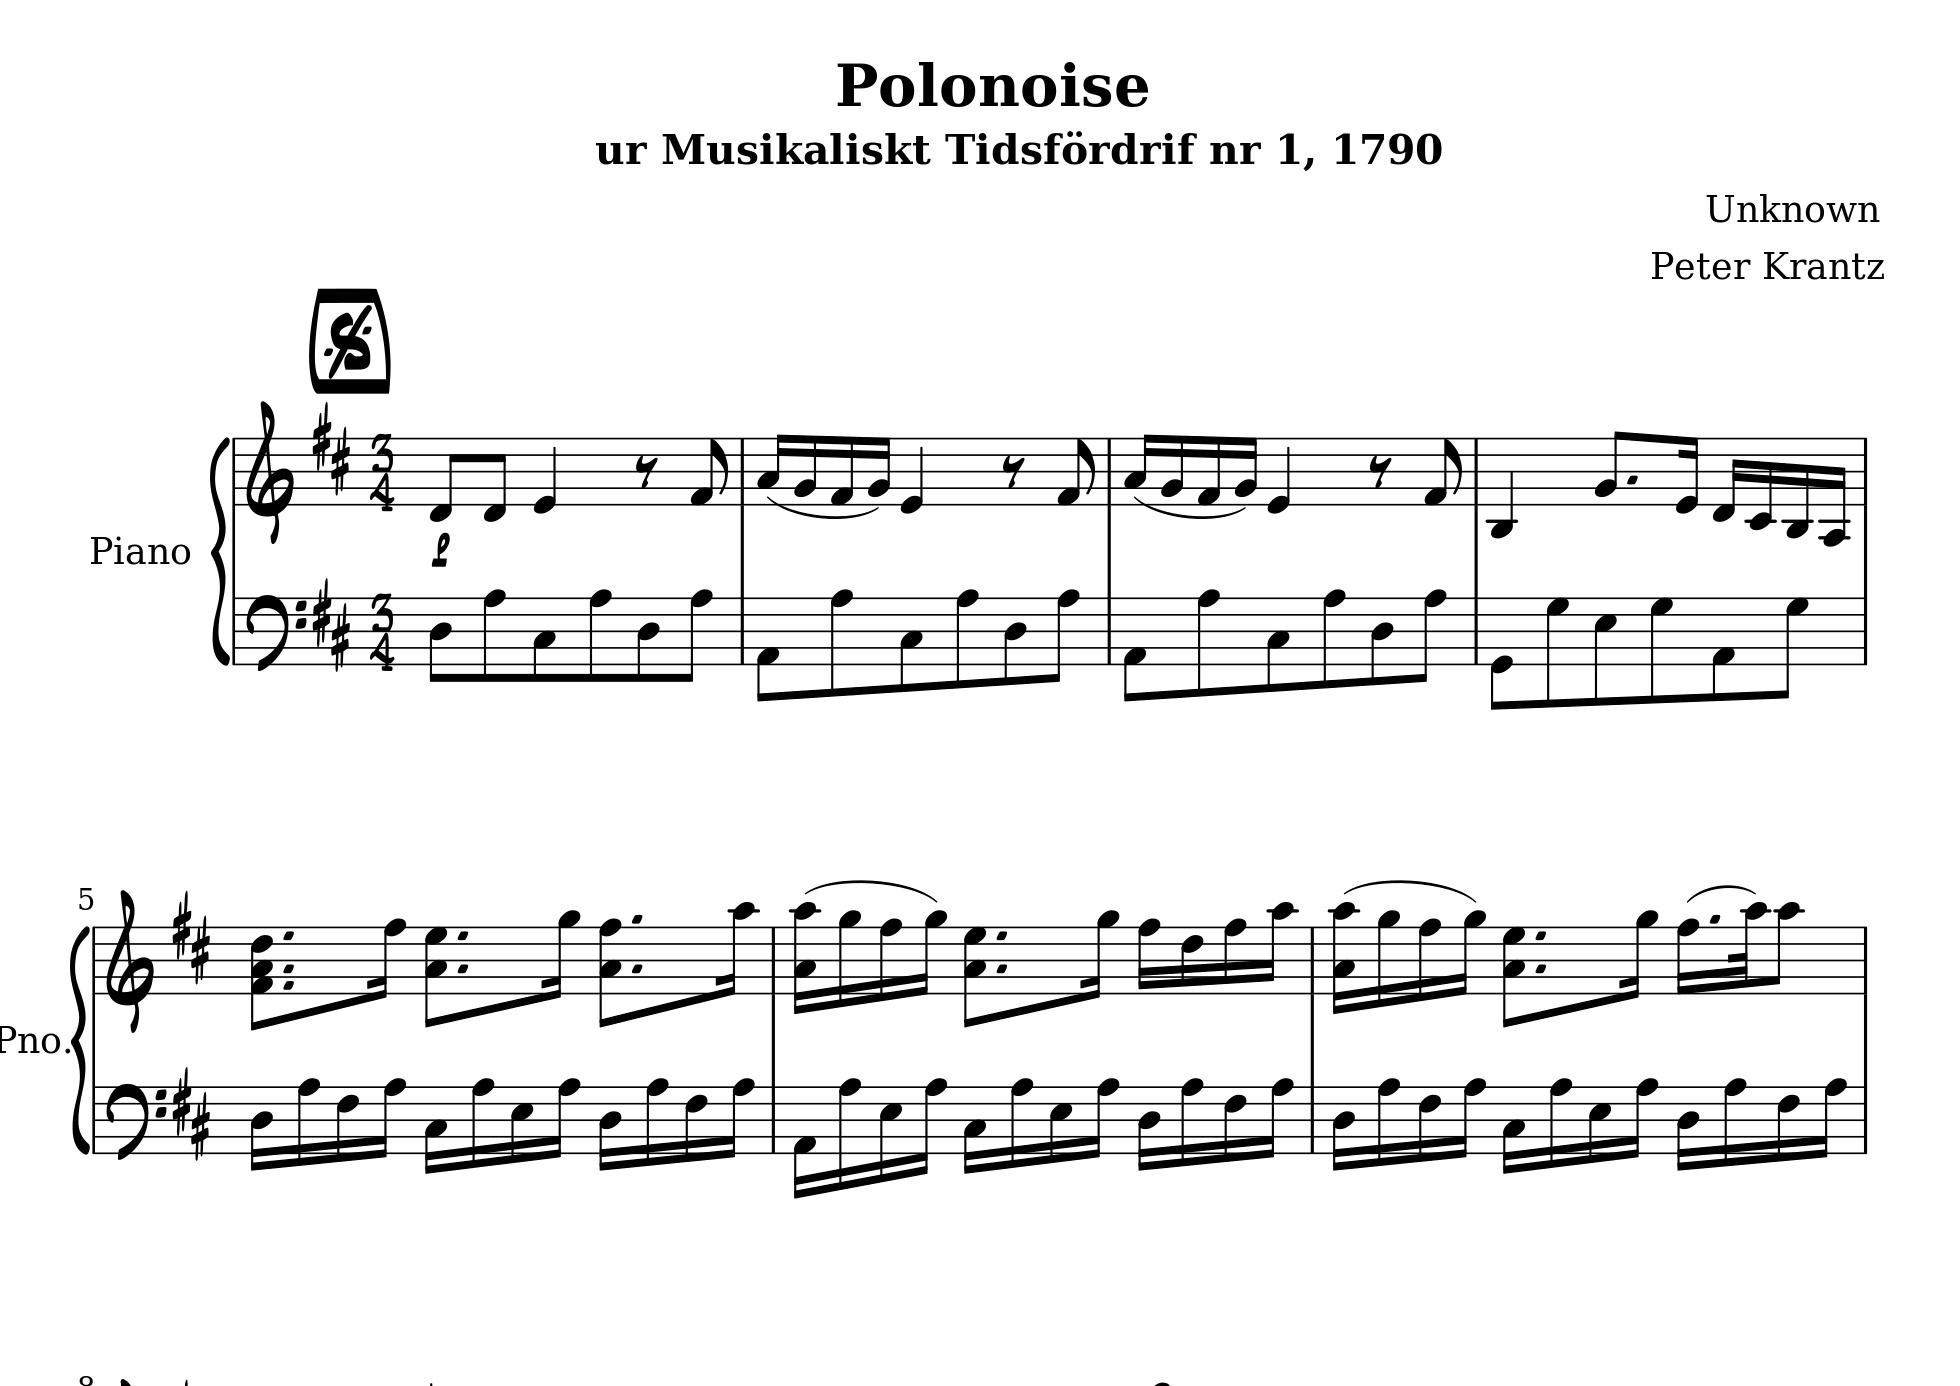16_-1: (1711, 435, 1741, 525)
16_-2: (1747, 436, 1774, 531)
16_-3: (1783, 433, 1812, 540)
16_-4: (1818, 433, 1848, 547)
16_0: (1672, 433, 1701, 516)
16_1: (790, 1083, 816, 1200), (826, 433, 855, 507), (1194, 433, 1222, 507)
16_10: (718, 901, 754, 1000), (1261, 900, 1296, 994)
16_2: (1158, 432, 1185, 505), (792, 432, 817, 505), (865, 433, 889, 505), (1233, 433, 1257, 505)
16_3: (754, 430, 786, 505), (1122, 430, 1153, 505), (961, 1084, 987, 1174), (421, 1084, 445, 1174), (1500, 1084, 1524, 1174)
16_3_10: (787, 898, 822, 1015), (1326, 901, 1359, 1015)
16_4: (1329, 1081, 1356, 1171), (595, 1083, 621, 1171), (1135, 1083, 1161, 1171), (1674, 1083, 1699, 1171), (247, 1083, 271, 1171)
16_5: (877, 1083, 901, 1183), (1047, 1083, 1072, 1164), (508, 1083, 532, 1164), (1587, 1083, 1611, 1162)
16_6: (1416, 1081, 1441, 1162), (682, 1081, 706, 1162), (1222, 1081, 1246, 1162), (1776, 1081, 1800, 1162), (334, 1083, 358, 1162), (1179, 922, 1204, 994)
16_8: (910, 1075, 946, 1176), (544, 1075, 579, 1159), (1623, 1075, 1657, 1159), (369, 916, 403, 999), (372, 1075, 405, 1159), (720, 1075, 753, 1159), (835, 1075, 859, 1191), (1086, 1075, 1119, 1159), (1260, 1075, 1293, 1159), (1452, 1075, 1485, 1159), (1812, 1075, 1845, 1159), (294, 1075, 319, 1168), (468, 1075, 493, 1168), (1546, 1075, 1572, 1168), (1720, 1075, 1746, 1168), (1177, 1075, 1203, 1167), (1374, 1075, 1399, 1167), (1008, 1075, 1032, 1168), (643, 1075, 667, 1167), (877, 916, 901, 1002), (1221, 916, 1246, 996), (1135, 916, 1161, 994), (1417, 916, 1440, 1002), (1674, 916, 1698, 996)
16_9: (1083, 907, 1119, 1000), (544, 907, 579, 1000), (1623, 907, 1657, 1000), (916, 907, 946, 996), (1455, 907, 1485, 996), (835, 907, 859, 1008), (1375, 907, 1399, 1008)
3: (370, 429, 394, 471), (370, 589, 394, 631)
32_10: (1731, 900, 1767, 994)
4: (367, 630, 397, 670), (369, 469, 396, 511)
4_-3: (1488, 433, 1515, 538)
4_0: (529, 435, 556, 516), (1264, 435, 1291, 516), (898, 435, 924, 514)
5: (76, 883, 94, 910)
8_-1: (424, 435, 460, 523), (480, 435, 508, 523)
8_0: (1488, 594, 1513, 711)
8_1: (687, 435, 729, 505), (1054, 435, 1096, 505), (1420, 435, 1462, 505), (1708, 594, 1734, 703), (753, 595, 778, 703), (1122, 595, 1146, 703)
8_10: (1770, 900, 1800, 996)
8_2: (1593, 427, 1626, 505)
8_3: (895, 595, 922, 694), (1263, 595, 1290, 694), (529, 595, 556, 682)
8_3_7: (423, 922, 450, 1030), (961, 925, 990, 1027), (1501, 925, 1527, 1029)
8_3_8: (598, 916, 622, 1029)
8_4: (1368, 595, 1395, 687), (1002, 595, 1027, 685), (427, 595, 453, 684), (634, 595, 660, 682)
8_5: (1593, 592, 1617, 706)
8_7: (1647, 595, 1674, 705), (1543, 594, 1569, 708)
8_8: (1773, 594, 1809, 700), (1042, 586, 1078, 685), (675, 586, 709, 685), (1410, 586, 1444, 685), (826, 586, 852, 700), (1194, 586, 1219, 700), (949, 586, 976, 691), (1317, 586, 1344, 691), (582, 586, 610, 684), (478, 586, 505, 682)
Brace: (210, 436, 229, 664), (72, 922, 88, 1156)
D_S: (310, 400, 352, 495), (310, 574, 351, 670), (171, 889, 211, 982), (171, 1065, 211, 1158)
Fclef: (244, 591, 307, 673), (103, 1081, 165, 1162)
Gclef: (243, 396, 294, 543), (103, 885, 153, 1033)
Pno: (85, 531, 192, 568), (1, 1020, 58, 1059)
Rests8: (633, 453, 658, 487), (1000, 453, 1026, 487), (1368, 453, 1393, 487)
Segno: (322, 304, 376, 376)
Single_barline: (735, 436, 751, 505), (1102, 436, 1119, 505), (1102, 595, 1119, 663), (1857, 925, 1873, 991), (766, 925, 781, 994), (1305, 925, 1320, 994), (1470, 438, 1485, 505), (735, 595, 750, 663), (766, 1084, 781, 1152), (1305, 1084, 1320, 1152), (1468, 597, 1483, 663), (1858, 1086, 1873, 1152), (1860, 436, 1873, 508), (228, 436, 241, 505), (87, 925, 100, 994), (1858, 598, 1872, 664), (228, 598, 241, 661), (88, 1087, 102, 1150)
Slur: (804, 877, 936, 904), (1344, 877, 1476, 904), (1131, 495, 1245, 520), (765, 493, 876, 519), (1686, 883, 1758, 903)
TimeSig: (367, 432, 397, 513), (367, 591, 396, 673)
dot: (280, 925, 295, 943), (994, 925, 1009, 943), (1533, 925, 1548, 943), (628, 958, 643, 976), (628, 910, 645, 925), (454, 927, 469, 943), (454, 958, 469, 975), (994, 958, 1009, 975), (1533, 958, 1548, 975), (280, 976, 297, 991), (280, 960, 295, 975), (1708, 910, 1722, 925), (1626, 471, 1639, 484)
p: (427, 529, 451, 568)
